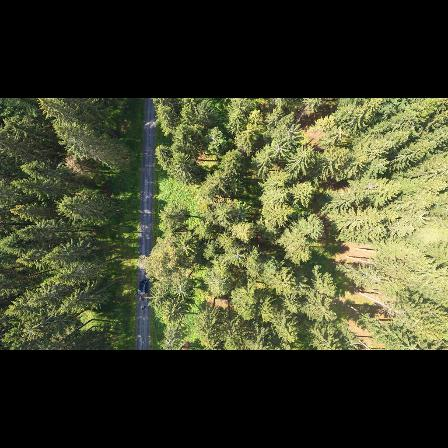Sick: (224, 245, 251, 270), (173, 235, 197, 262), (169, 280, 192, 304), (269, 136, 290, 160)
